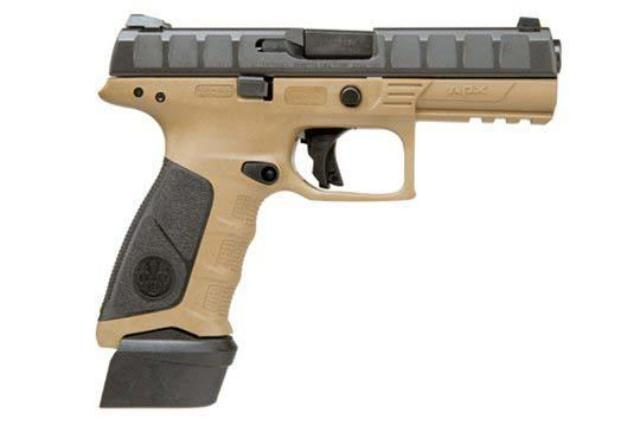handgun: (84, 11, 566, 415)
